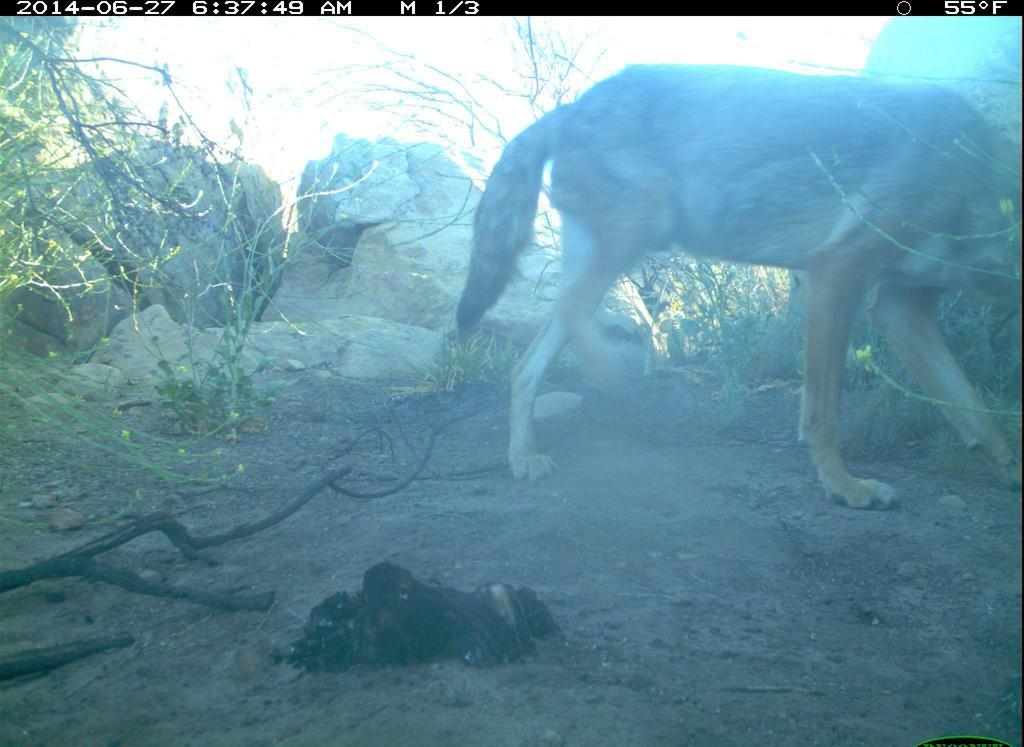coyote: (451, 48, 1023, 515)
